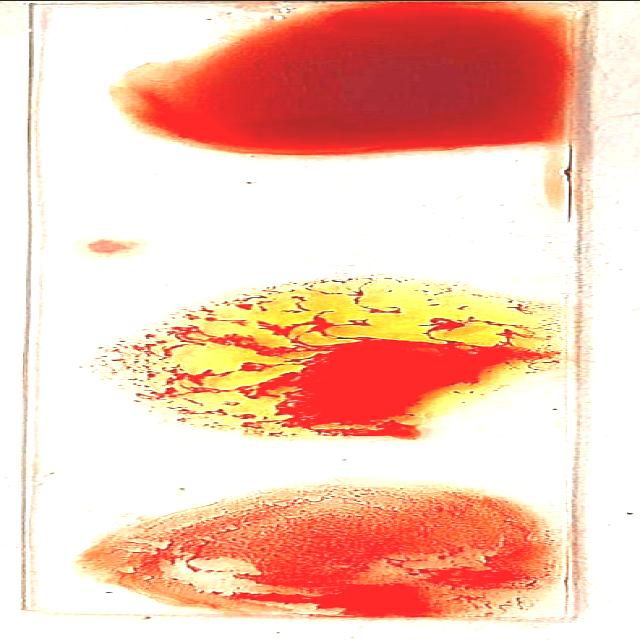B: (105, 282, 566, 433), (85, 486, 558, 616)
